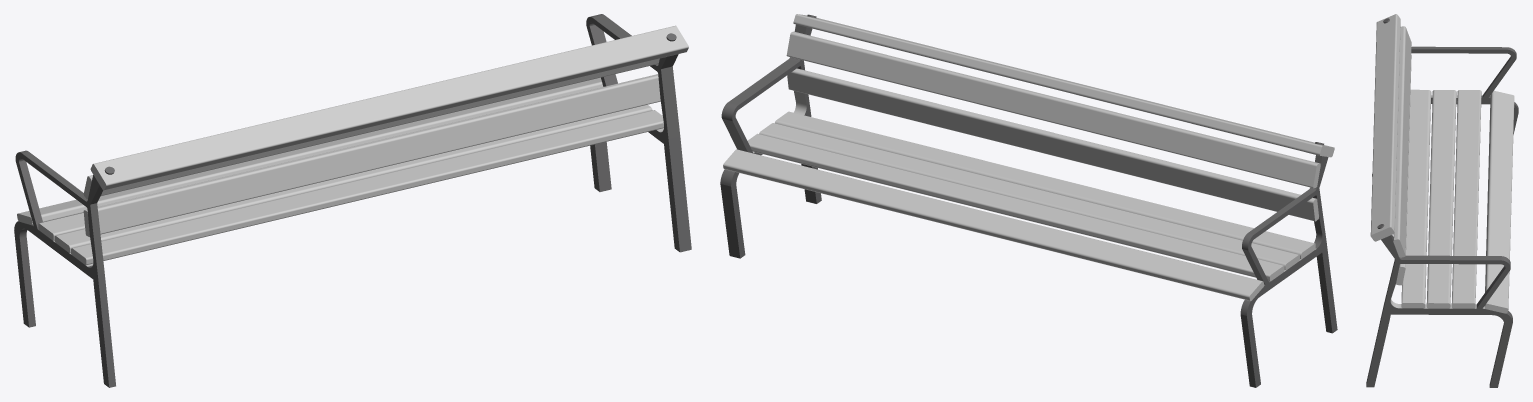
File: Banca.fbx
The picture shows the model from 3 angles, left to right: view 1: azimuth 30°, elevation 25°; view 2: azimuth 150°, elevation 25°; view 3: azimuth 270°, elevation 25°; orthographic projection. The views are drawn at different scales.
Visible parts, largest first — view 1: instance_1.033; view 2: instance_1.033; view 3: instance_1.033.
Part boxes in pixels (left/top/right/bottom): instance_1.033: left=14, top=14, right=691, bottom=387; instance_1.033: left=720, top=14, right=1337, bottom=387; instance_1.033: left=1366, top=14, right=1518, bottom=387.
Bounding box in the file's own units: 127 × 44.25 × 38.21.
